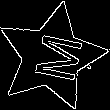M_W: (21, 29, 81, 85)
